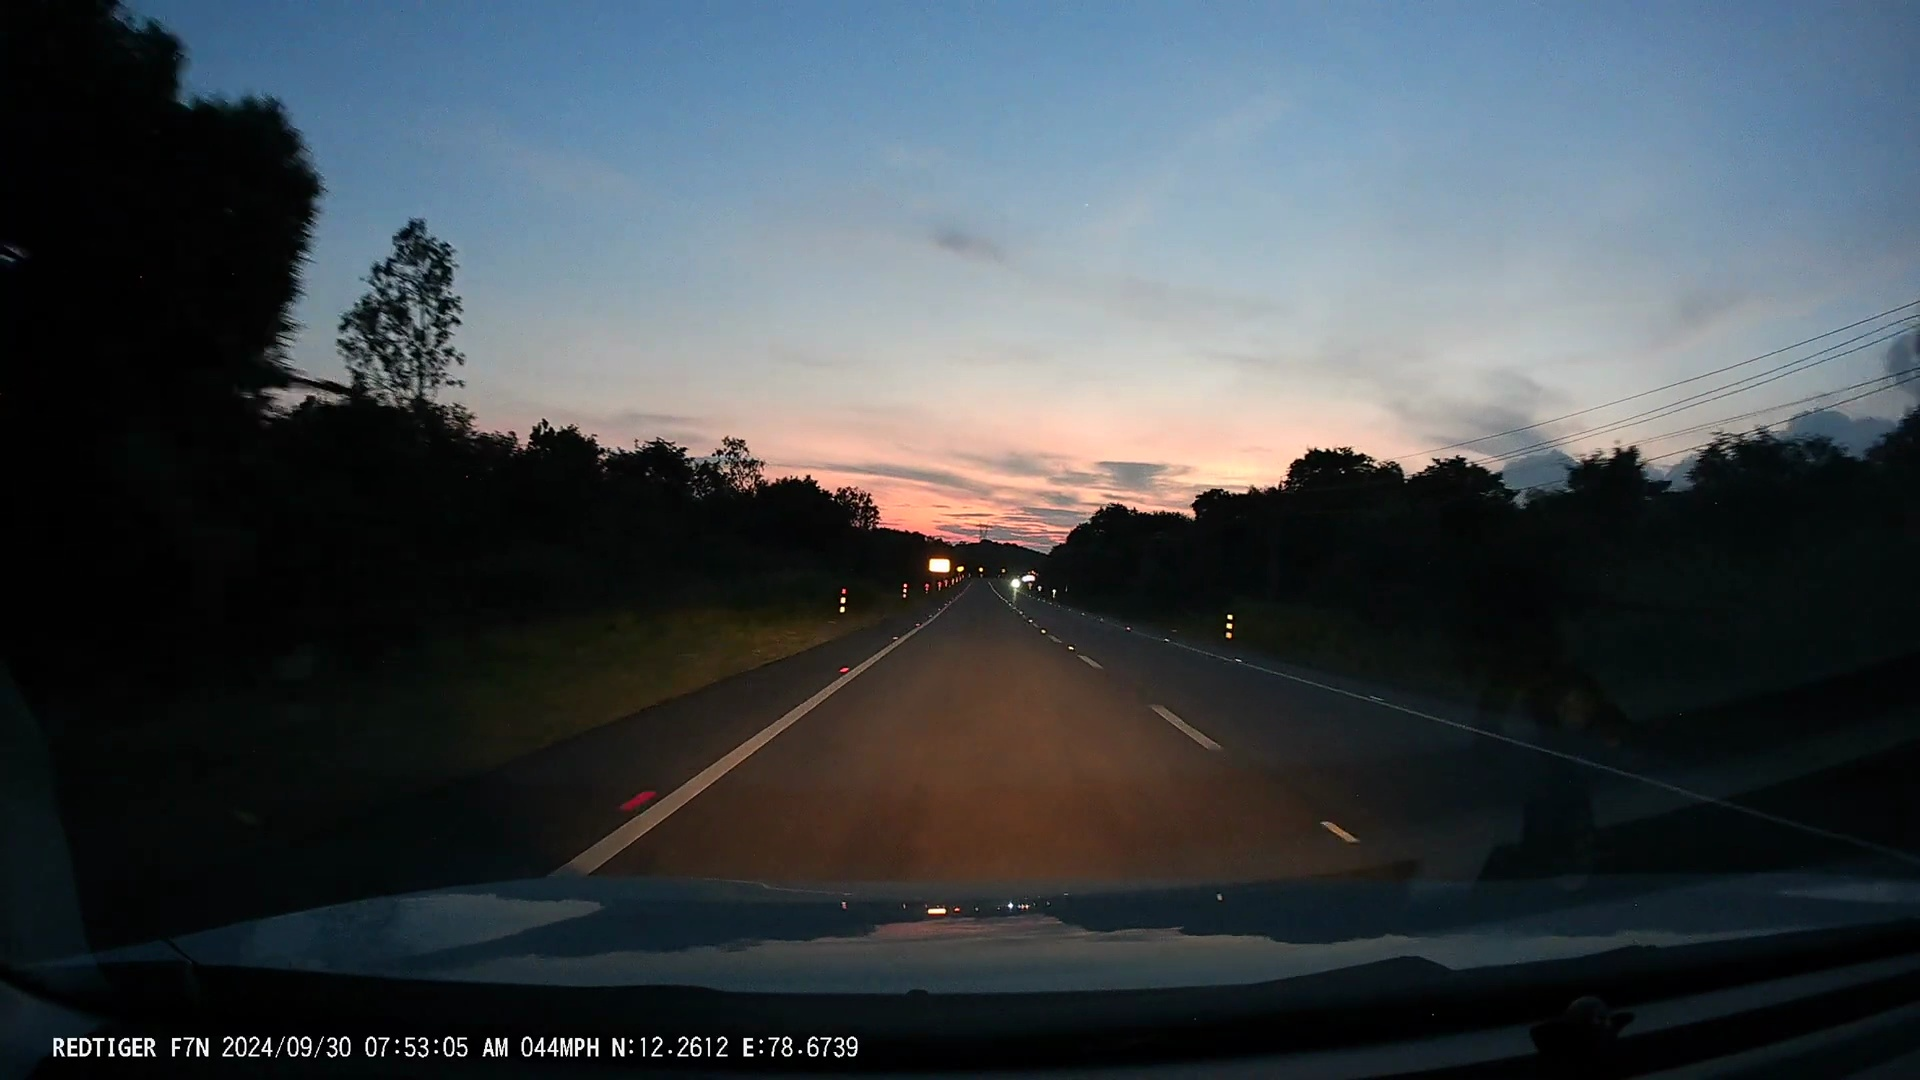headlight: (1009, 578, 1021, 589)
two wheeler: (1009, 568, 1021, 597)
